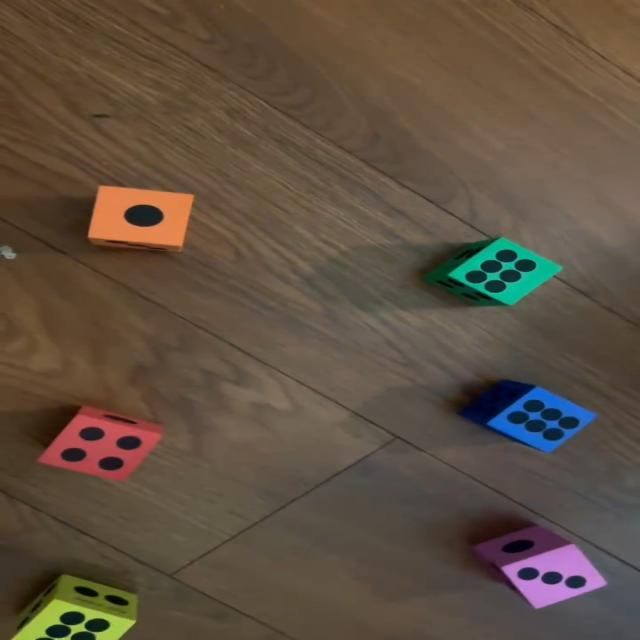blue_block: (455, 380, 599, 452)
red_block: (37, 404, 161, 480)
